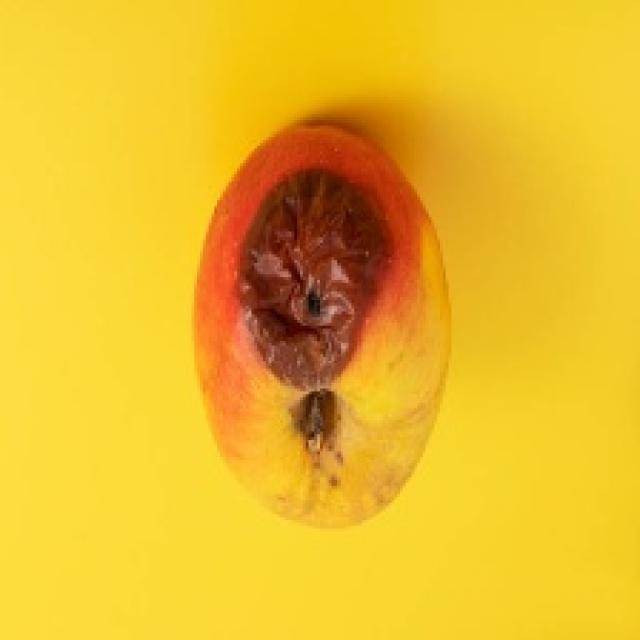rotten_apple: (196, 122, 448, 527)
